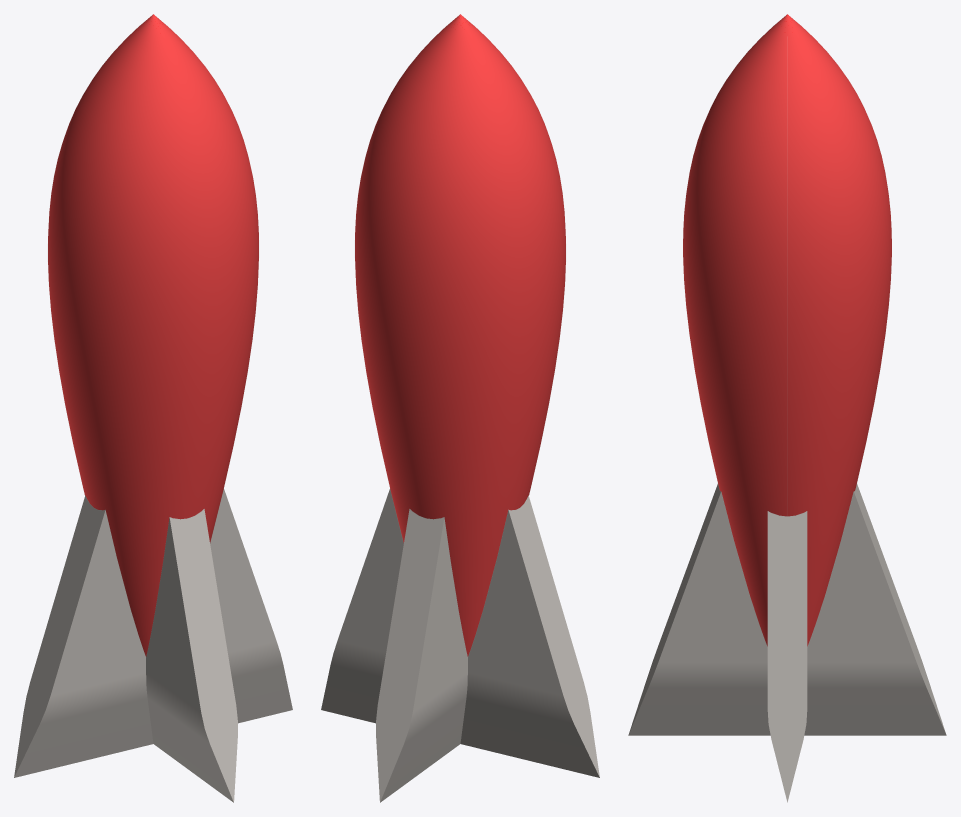
Rendered from mortar shell.glb.
The picture shows the model from 3 angles, left to right: view 1: azimuth 30°, elevation 25°; view 2: azimuth 150°, elevation 25°; view 3: azimuth 270°, elevation 25°; orthographic projection.
Parts seen in each view (by area): view 1: Revolve1 - Part, Revolve1 - Part_clonedChild, Combine2 - Part; view 2: Revolve1 - Part, Revolve1 - Part_clonedChild, Combine2 - Part; view 3: Revolve1 - Part, Revolve1 - Part_clonedChild, Combine2 - Part.
Part boxes in pixels (x1=…): Revolve1 - Part: x1=48, y1=14, x2=258, y2=656; Revolve1 - Part_clonedChild: x1=48, y1=15, x2=258, y2=655; Combine2 - Part: x1=14, y1=488, x2=292, y2=802; Revolve1 - Part: x1=355, y1=14, x2=565, y2=656; Revolve1 - Part_clonedChild: x1=355, y1=15, x2=565, y2=655; Combine2 - Part: x1=321, y1=488, x2=599, y2=802; Revolve1 - Part: x1=683, y1=14, x2=891, y2=646; Revolve1 - Part_clonedChild: x1=683, y1=14, x2=891, y2=645; Combine2 - Part: x1=628, y1=484, x2=946, y2=802.
Size of the model in its own units: 0.08 by 0.2001 by 0.08.
